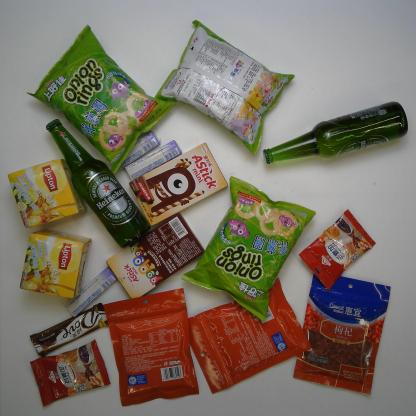Alcohol: (40, 118, 152, 248), (264, 97, 410, 163)
Candy: (60, 260, 123, 317), (99, 132, 162, 180), (123, 138, 185, 181)
Chocolate: (26, 298, 116, 360)
Dessert: (104, 210, 207, 303), (127, 141, 230, 228)
Dried Fruit: (184, 274, 312, 395), (291, 269, 394, 400), (102, 286, 204, 406)
Instant Drink: (298, 207, 378, 290), (5, 156, 88, 229), (26, 340, 113, 408), (19, 229, 96, 303)
Puffed Food: (26, 24, 180, 172), (180, 173, 316, 321), (152, 17, 295, 156)
